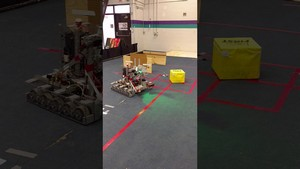cube: (213, 38, 262, 80), (168, 66, 185, 84)
